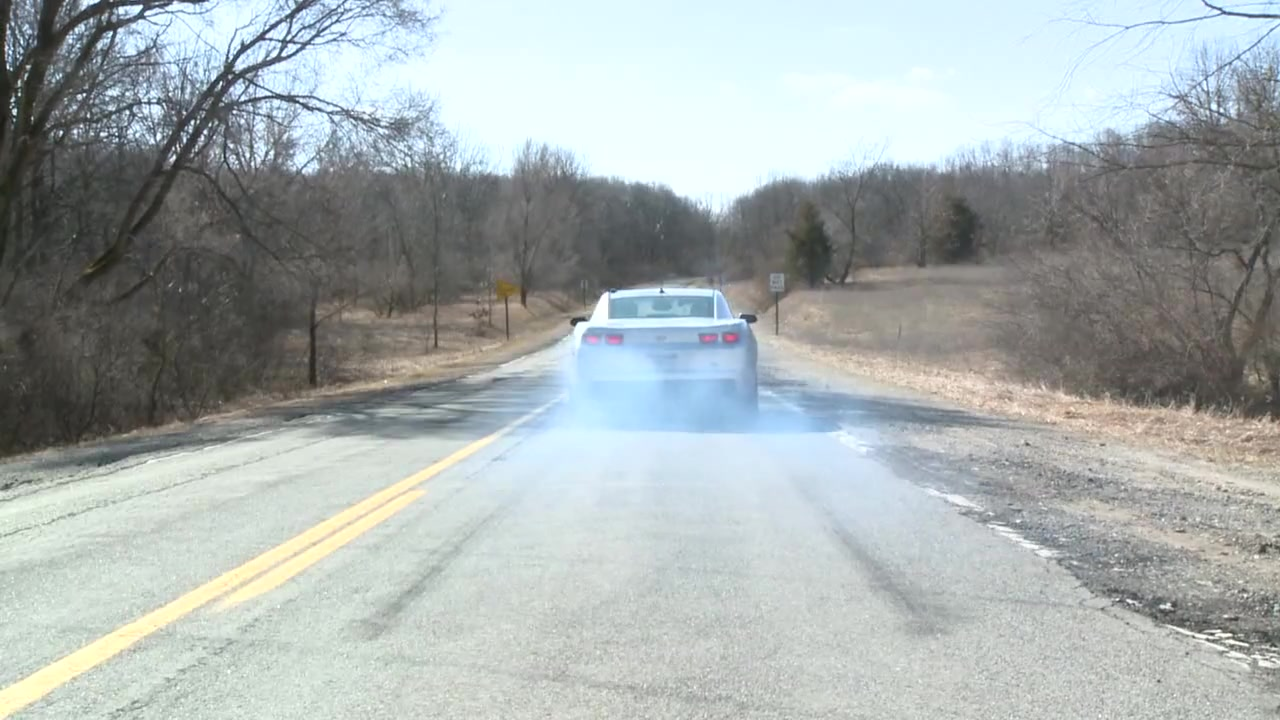car: (564, 281, 764, 429)
